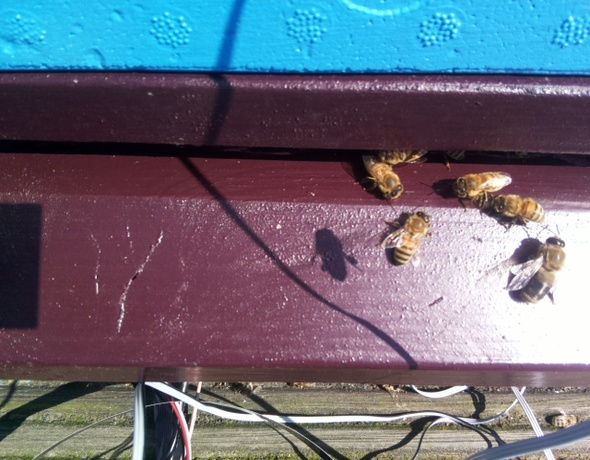no_pollen: (505, 234, 566, 305), (383, 210, 433, 267), (355, 148, 405, 201), (487, 192, 548, 226), (450, 169, 514, 201), (374, 142, 430, 167)
